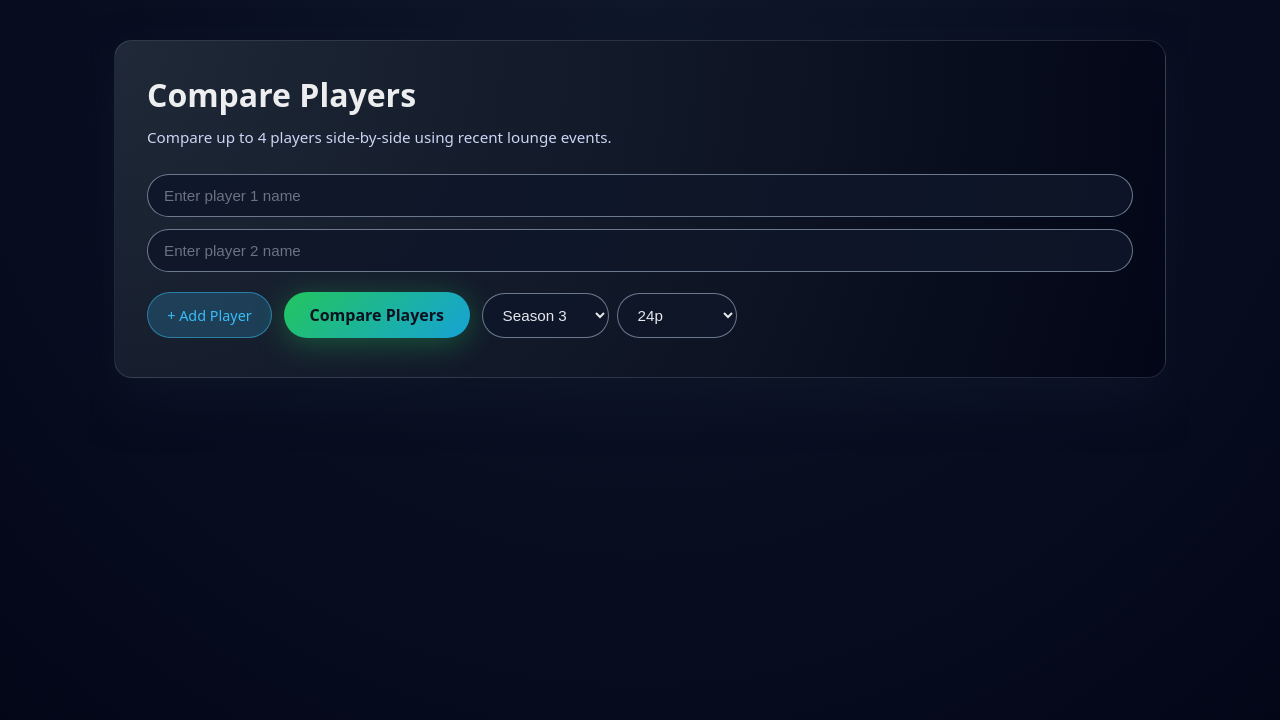
Test: PlayerComparison › compares the names in the order typed, for the selected season and ladder
This screenshot has width=1280, height=720.
Type "Zed" into the dropdown labelled "player 1 name" at x=640, y=196, box [147, 174, 1133, 217]
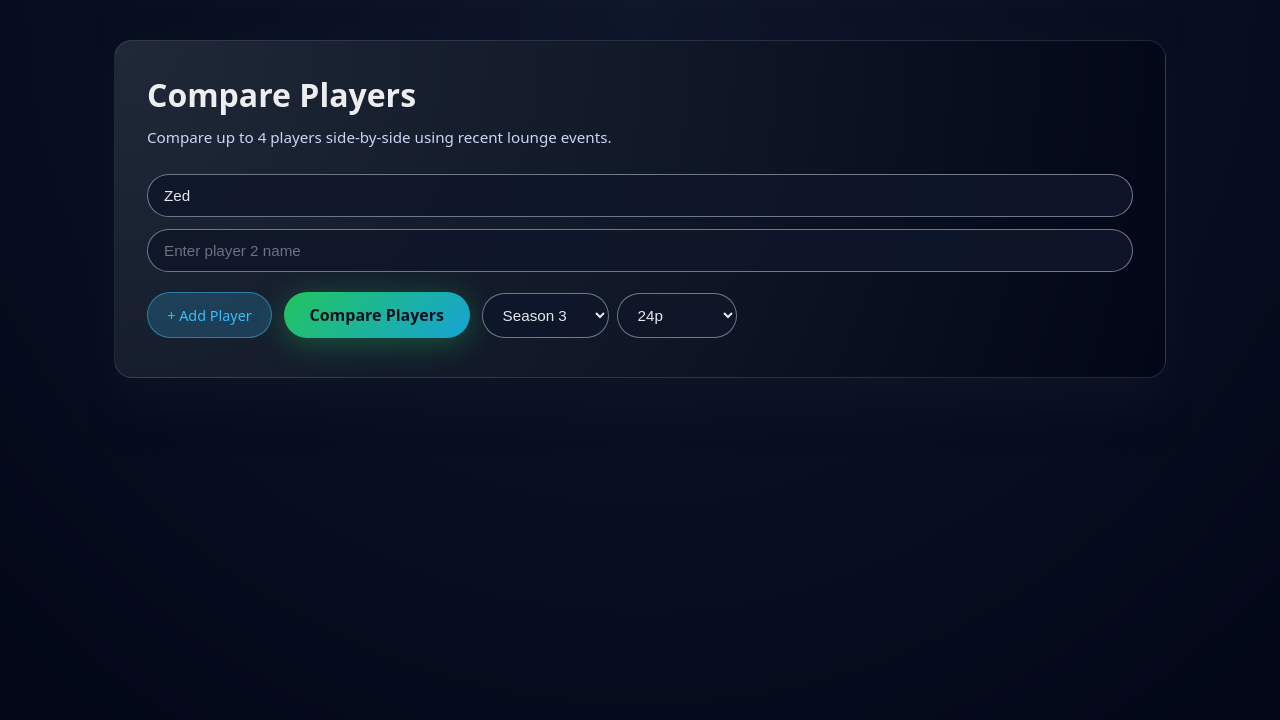
Type "Amy" into the dropdown labelled "player 2 name" at x=640, y=251, box [147, 229, 1133, 272]
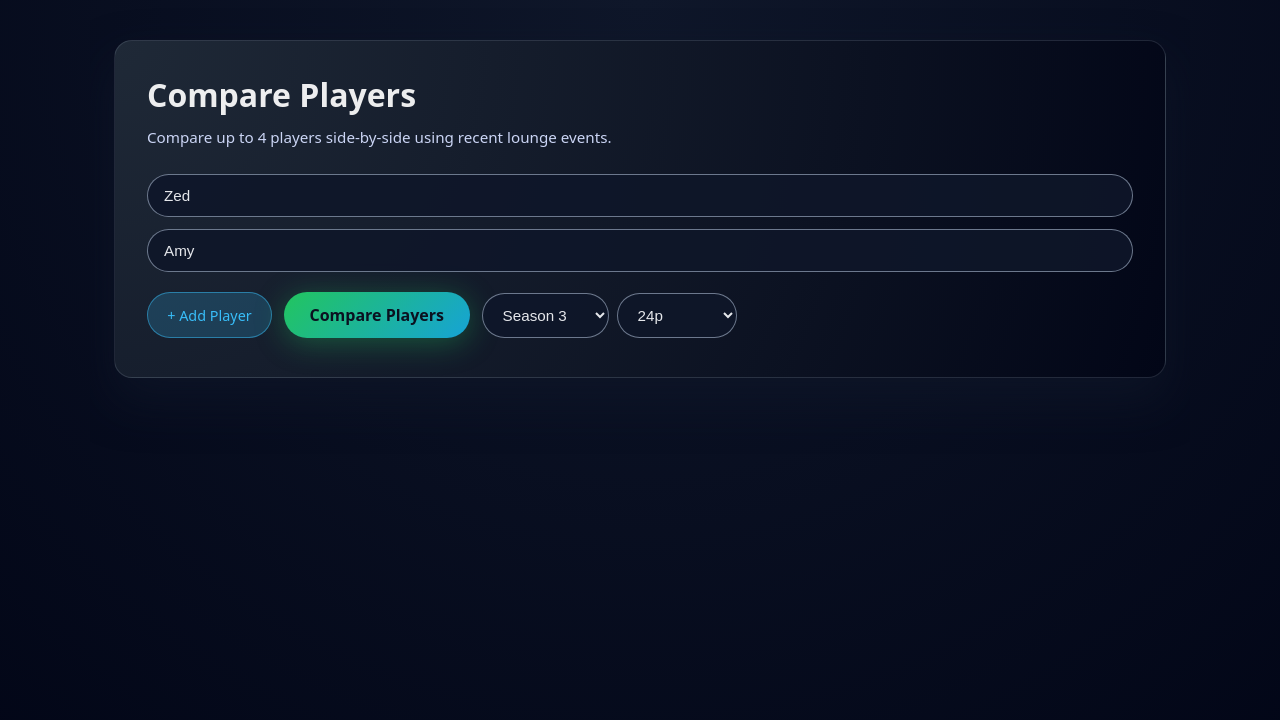
Click the button with aria-label "Compare selected players" at x=377, y=315, box [284, 292, 470, 338]
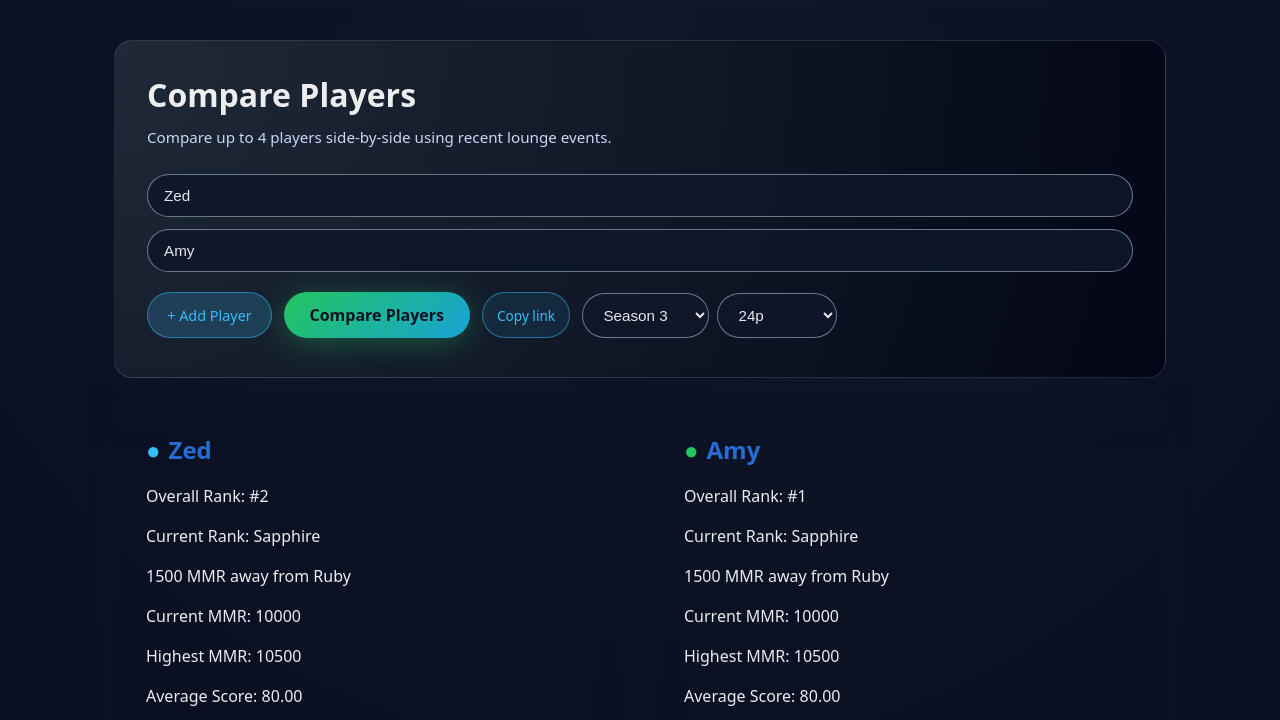
Expected: the headings read "● Zed", "● Amy", in this order, [146, 433, 212, 466]; [684, 433, 760, 466]
